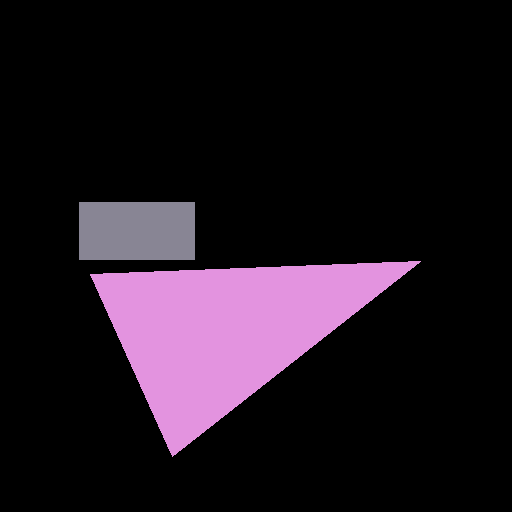rectangle: (79, 202, 194, 259)
triangle: (90, 261, 420, 456)
